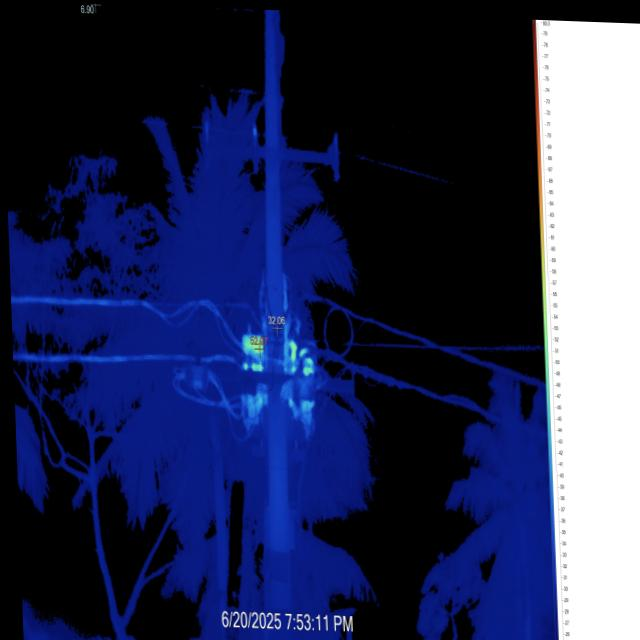Normal: (231, 318, 266, 376), (284, 333, 318, 382)
